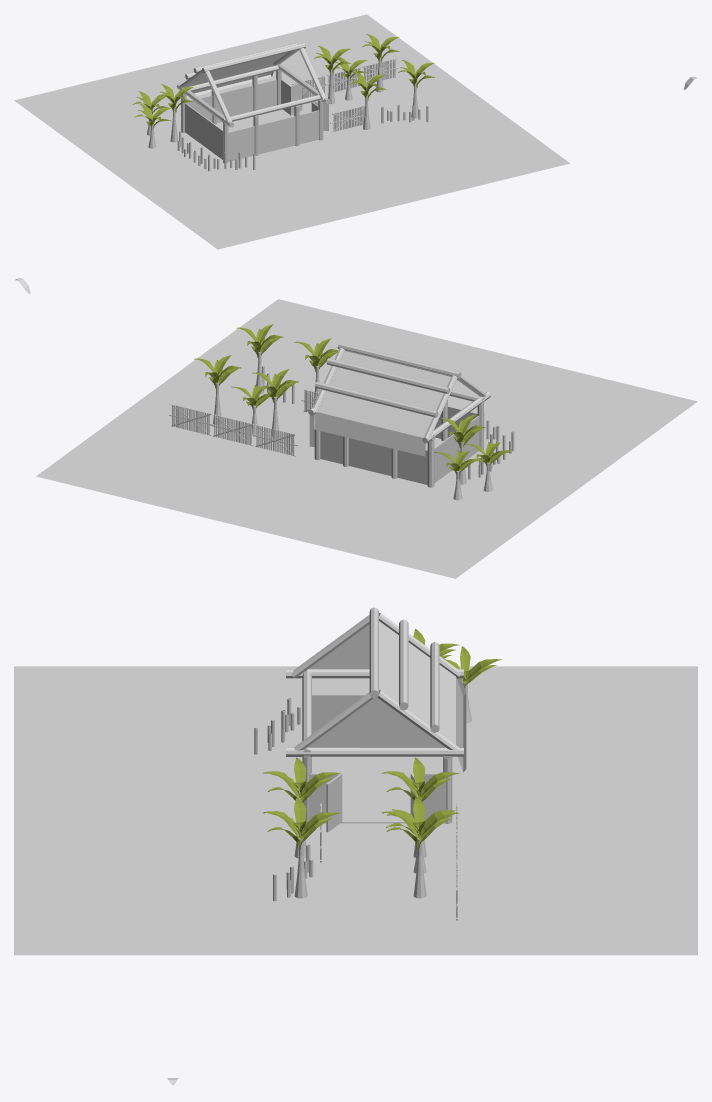
The model's file is map .glb.
3 views of the same model, one above another, from view 1: azimuth 30°, elevation 25°; view 2: azimuth 150°, elevation 25°; view 3: azimuth 270°, elevation 25° (orthographic). The views are drawn at different scales.
Parts seen in each view (by area): view 1: Plane.003, Cube.006, Cube.003, Plane, Cube.002, Cylinder.007, Cube, Cylinder.171, Cylinder.004; view 2: Plane.003, Plane, Cube.003, Cube.002, Cylinder.010, Cylinder.172, Cylinder.007, Cylinder.173; view 3: Plane.003, Cube, Plane, Plane.001, Cylinder.174, Plane.002, Cube.001, Cube.002, Cylinder.007, Cylinder.010, Cylinder.172, Cube.004 (+5 smaller).
Part boxes in pixels (x1=…): Plane.003: x1=14, y1=14, x2=570, y2=249; Cube.006: x1=228, y1=110, x2=319, y2=161; Cube.003: x1=186, y1=79, x2=276, y2=122; Plane: x1=179, y1=52, x2=287, y2=99; Cube.002: x1=185, y1=103, x2=222, y2=159; Cylinder.007: x1=202, y1=43, x2=305, y2=72; Cube: x1=215, y1=109, x2=323, y2=138; Cylinder.171: x1=222, y1=95, x2=320, y2=123; Cylinder.004: x1=181, y1=65, x2=279, y2=91; Plane.003: x1=36, y1=299, x2=697, y2=578; Plane: x1=314, y1=349, x2=451, y2=456; Cube.003: x1=320, y1=431, x2=427, y2=484; Cube.002: x1=434, y1=416, x2=479, y2=482; Cylinder.010: x1=326, y1=358, x2=450, y2=393; Cylinder.172: x1=314, y1=382, x2=438, y2=417; Cylinder.007: x1=337, y1=342, x2=461, y2=378; Cylinder.173: x1=422, y1=391, x2=491, y2=443; Plane.003: x1=14, y1=666, x2=697, y2=955; Cube: x1=306, y1=747, x2=446, y2=823; Plane: x1=379, y1=621, x2=466, y2=771; Plane.001: x1=307, y1=697, x2=445, y2=747; Cylinder.174: x1=286, y1=747, x2=463, y2=756; Plane.002: x1=309, y1=624, x2=369, y2=668; Cube.001: x1=308, y1=773, x2=446, y2=822; Cube.002: x1=312, y1=694, x2=365, y2=733; Cylinder.007: x1=369, y1=607, x2=378, y2=698; Cylinder.010: x1=399, y1=619, x2=408, y2=710; Cylinder.172: x1=430, y1=642, x2=439, y2=732; Cube.004: x1=326, y1=774, x2=342, y2=832.
Size of the model in its own units: 127 by 18.61 by 84.86.
